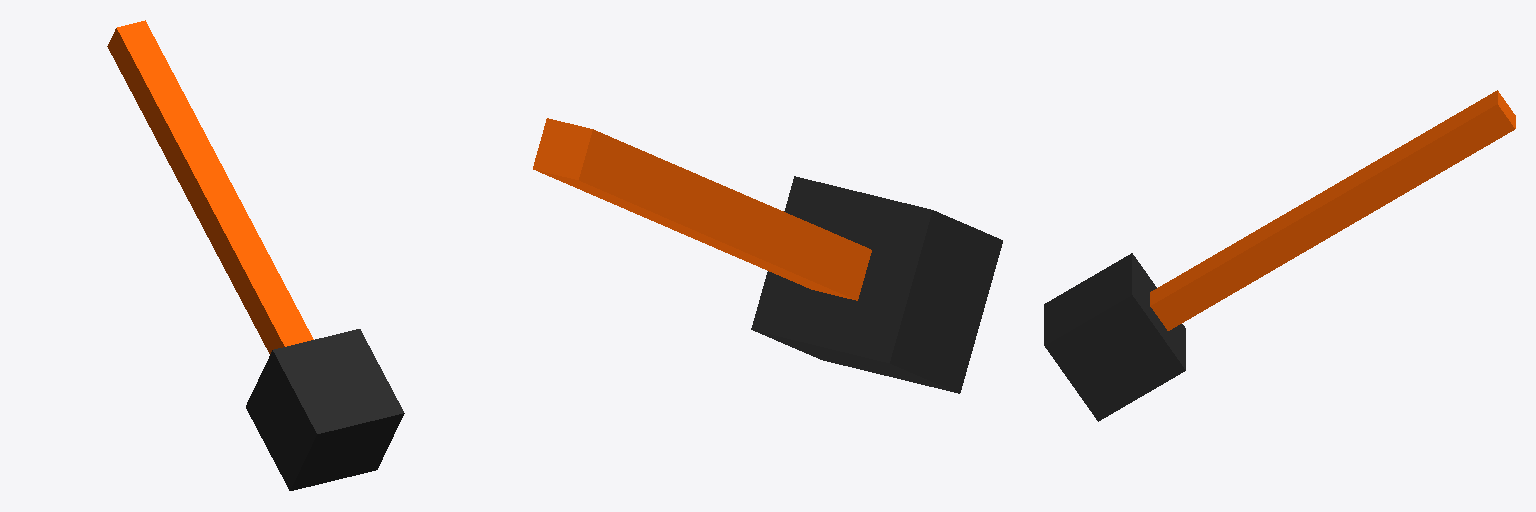
The robot description file, URDF, robot "lbr_iiwa":
<?xml version="1.0" ?>
<!-- =================================================================================== -->
<!-- |    This document was autogenerated by xacro from lbr_iiwa_meshfree.urdf.xacro   | -->
<!-- |    EDITING THIS FILE BY HAND IS NOT RECOMMENDED                                 | -->
<!-- =================================================================================== -->
<robot name="lbr_iiwa" xmlns:xacro="http://www.ros.org/wiki/xacro">
  <!-- Import Rviz colors -->
  <material name="Black">
    <color rgba="0.0 0.0 0.0 1.0"/>
  </material>
  <material name="Blue">
    <color rgba="0.0 0.0 0.8 1.0"/>
  </material>
  <material name="Green">
    <color rgba="0.0 0.8 0.0 1.0"/>
  </material>
  <material name="Grey">
    <color rgba="0.2 0.2 0.2 1.0"/>
  </material>
  <material name="Orange">
    <color rgba="1.0 0.423529411765 0.0392156862745 1.0"/>
  </material>
  <material name="Brown">
    <color rgba="0.870588235294 0.811764705882 0.764705882353 1.0"/>
  </material>
  <material name="Red">
    <color rgba="0.8 0.0 0.0 1.0"/>
  </material>
  <material name="White">
    <color rgba="1.0 1.0 1.0 1.0"/>
  </material>
  <!--Import the lbr iiwa macro -->
  <!-- Import all Gazebo-customization elements, including Gazebo colors -->
  <!-- Import Transmissions -->
  <!-- Include Utilities -->
  <!-- The following macros are adapted from the LWR 4 definitions of the RCPRG - https://github.com/RCPRG-ros-pkg/lwr_robot -->
  <!--Little helper macros to define the inertia matrix needed for links.-->
  <!--Cuboid-->
  <!--Cylinder: length is along the y-axis! -->
  <!-- some constants -->
  <!-- <xacro:property name="safety_controller_k_pos" value="100" />
  <xacro:property name="safety_controller_k_vel" value="2" /> -->
  <!-- Import Gazebo plugins -->
  <gazebo>
    <plugin filename="libgazebo_ros_control.so" name="gazebo_ros_controller">
      <robotNamespace>/lbr_iiwa</robotNamespace>
    </plugin>
  </gazebo>
  <!-- Fix to world just for testing -->
  <link name="world"/>
  <!--lbr-->
  <!--joint between {parent} and link_0-->
  <joint name="world_joint" type="fixed">
    <origin rpy="-1 0 0" xyz="0 0 0.0"/>
    <parent link="world"/>
    <child link="lbr_iiwa_link_0"/>
  </joint>
  <link name="lbr_iiwa_link_0">
    <inertial>
      <origin rpy="0 0 0" xyz="-0.1 0 0.07"/>
      <mass value="5"/>
      <inertia ixx="0.05" ixy="0" ixz="0" iyy="0.06" iyz="0" izz="0.03"/>
    </inertial>
    <visual>
      <origin rpy="0 0 0" xyz="0 0 0.07875"/>
      <geometry>
        <box size="0.15 0.15 0.1575"/>
      </geometry>
      <material name="Grey"/>
    </visual>
    <collision>
      <origin rpy="0 0 0" xyz="0 0 0.07875"/>
      <geometry>
        <box size="0.15 0.15 0.1575"/>
      </geometry>
      <material name="Grey"/>
    </collision>
    <!--self_collision_checking>
        <origin xyz="0 0 0" rpy="0 0 0"/>
        <geometry>
          <capsule radius="0.15" length="0.25"/>
        </geometry>
      </self_collision_checking-->
  </link>
  <!-- joint between link_0 and link_1 -->
  <joint name="lbr_iiwa_joint_1" type="revolute">
    <parent link="lbr_iiwa_link_0"/>
    <child link="lbr_iiwa_link_1"/>
    <origin rpy="0 0 0" xyz="0 0 0.1575"/>
    <axis xyz="0 0 1"/>
    <limit effort="300" lower="-3.14159265359" upper="3.14159265359" velocity="10"/>
    <!--   <safety_controller soft_lower_limit="${-168 * M_PI / 180}"
           soft_upper_limit="${168 * M_PI / 180}"
           k_position="${safety_controller_k_pos}"
           k_velocity="${safety_controller_k_vel}"/> -->
    <dynamics damping="0.5"/>
  </joint>
  <link name="lbr_iiwa_link_1">
    <inertial>
      <origin rpy="0 0 0" xyz="0 -0.03 0.12"/>
      <mass value="4"/>
      <inertia ixx="0.1" ixy="0" ixz="0" iyy="0.09" iyz="0" izz="0.02"/>
    </inertial>
    <visual>
      <origin rpy="0 0 0" xyz="0 0 0.10125"/>
      <geometry>
        <box size="0.05 0.05 0.2025"/>
      </geometry>
      <material name="Orange"/>
    </visual>
    <collision>
      <origin rpy="0 0 0" xyz="0 0 0.10125"/>
      <geometry>
        <box size="0.05 0.05 0.2025"/>
      </geometry>
      <material name="Orange"/>
    </collision>
  </link>
  <!-- joint between link_1 and link_2 -->
  <joint name="lbr_iiwa_joint_2" type="revolute">
    <parent link="lbr_iiwa_link_1"/>
    <child link="lbr_iiwa_link_2"/>
    <origin rpy="1.57079632679   0 3.14159265359" xyz="0 0 0.2025"/>
    <axis xyz="0 0 1"/>
    <limit effort="300" lower="-2.09439510239" upper="2.09439510239" velocity="10"/>
    <!-- <safety_controller soft_lower_limit="${-118 * PI / 180}"
           soft_upper_limit="${118 * PI / 180}"
           k_position="${safety_controller_k_pos}"
           k_velocity="${safety_controller_k_vel}"/> -->
    <dynamics damping="0.5"/>
  </joint>
  <link name="lbr_iiwa_link_2">
    <inertial>
      <origin rpy="0 0 0" xyz="0.0003 0.059 0.042"/>
      <mass value="4"/>
      <inertia ixx="0.05" ixy="0" ixz="0" iyy="0.018" iyz="0" izz="0.044"/>
    </inertial>
    <visual>
      <origin rpy="0 0 0" xyz="0 0.10225 0"/>
      <geometry>
        <box size="0.05 0.2045 0.05"/>
      </geometry>
      <material name="Orange"/>
    </visual>
    <collision>
      <origin rpy="0 0 0" xyz="0 0.10225 0"/>
      <geometry>
        <box size="0.05 0.2045 0.05"/>
      </geometry>
      <material name="Orange"/>
    </collision>
  </link>
  <!-- joint between link_2 and link_3 -->
  <joint name="lbr_iiwa_joint_3" type="revolute">
    <parent link="lbr_iiwa_link_2"/>
    <child link="lbr_iiwa_link_3"/>
    <origin rpy="1.57079632679 0 3.14159265359" xyz="0 0.2045 0"/>
    <axis xyz="0 1 0"/>
    <limit effort="300" lower="-2.96705972839" upper="2.96705972839" velocity="10"/>
    <!-- <safety_controller soft_lower_limit="${-118 * PI / 180}"
           soft_upper_limit="${118 * PI / 180}"
           k_position="${safety_controller_k_pos}"
           k_velocity="${safety_controller_k_vel}"/> -->
    <dynamics damping="0.5"/>
  </joint>
  <link name="lbr_iiwa_link_3">
    <inertial>
      <origin rpy="0 0 0" xyz="0 0.03 0.13"/>
      <mass value="3"/>
      <inertia ixx="0.08" ixy="0" ixz="0" iyy="0.075" iyz="0" izz="0.01"/>
    </inertial>
    <visual>
      <origin rpy="0 0 0" xyz="0 0 0.10775"/>
      <geometry>
        <box size="0.05 0.05 0.2155"/>
      </geometry>
      <material name="Orange"/>
    </visual>
    <collision>
      <origin rpy="0 0 0" xyz="0 0 0.10775"/>
      <geometry>
        <box size="0.05 0.05 0.2155"/>
      </geometry>
      <material name="Orange"/>
    </collision>
  </link>
  <!--Extensions -->
  <!-- Link0 -->
  <gazebo reference="lbr_iiwa_link_0">
    <material>Gazebo/Grey</material>
    <mu1>0.2</mu1>
    <mu2>0.2</mu2>
  </gazebo>
  <!-- Link1 -->
  <gazebo reference="lbr_iiwa_link_1">
    <material>Gazebo/Orange</material>
    <mu1>0.2</mu1>
    <mu2>0.2</mu2>
  </gazebo>
  <!-- Link2 -->
  <gazebo reference="lbr_iiwa_link_2">
    <material>Gazebo/Orange</material>
    <mu1>0.2</mu1>
    <mu2>0.2</mu2>
  </gazebo>
  <!-- Link3 -->
  <gazebo reference="lbr_iiwa_link_3">
    <material>Gazebo/Orange</material>
    <mu1>0.2</mu1>
    <mu2>0.2</mu2>
  </gazebo>
  <!-- Link4 -->
  <gazebo reference="lbr_iiwa_link_4">
    <material>Gazebo/Orange</material>
    <mu1>0.2</mu1>
    <mu2>0.2</mu2>
  </gazebo>
  <!-- Link5 -->
  <gazebo reference="lbr_iiwa_link_5">
    <material>Gazebo/Orange</material>
    <mu1>0.2</mu1>
    <mu2>0.2</mu2>
  </gazebo>
  <!-- Link6 -->
  <gazebo reference="lbr_iiwa_link_6">
    <material>Gazebo/Orange</material>
    <mu1>0.2</mu1>
    <mu2>0.2</mu2>
  </gazebo>
  <!-- Link7 -->
  <gazebo reference="lbr_iiwa_link_7">
    <material>Gazebo/Grey</material>
    <mu1>0.2</mu1>
    <mu2>0.2</mu2>
  </gazebo>
  <transmission name="lbr_iiwa_tran_1">
    <type>transmission_interface/SimpleTransmission</type>
    <joint name="lbr_iiwa_joint_1">
      <hardwareInterface>EffortJointInterface</hardwareInterface>
    </joint>
    <actuator name="lbr_iiwa_motor_1">
      <hardwareInterface>EffortJointInterface</hardwareInterface>
      <mechanicalReduction>1</mechanicalReduction>
    </actuator>
  </transmission>
  <transmission name="lbr_iiwa_tran_2">
    <type>transmission_interface/SimpleTransmission</type>
    <joint name="lbr_iiwa_joint_2">
      <hardwareInterface>EffortJointInterface</hardwareInterface>
    </joint>
    <actuator name="lbr_iiwa_motor_2">
      <hardwareInterface>EffortJointInterface</hardwareInterface>
      <mechanicalReduction>1</mechanicalReduction>
    </actuator>
  </transmission>
  <transmission name="lbr_iiwa_tran_3">
    <type>transmission_interface/SimpleTransmission</type>
    <joint name="lbr_iiwa_joint_3">
      <hardwareInterface>EffortJointInterface</hardwareInterface>
    </joint>
    <actuator name="lbr_iiwa_motor_3">
      <hardwareInterface>EffortJointInterface</hardwareInterface>
      <mechanicalReduction>1</mechanicalReduction>
    </actuator>
  </transmission>
  <transmission name="lbr_iiwa_tran_4">
    <type>transmission_interface/SimpleTransmission</type>
    <joint name="lbr_iiwa_joint_4">
      <hardwareInterface>EffortJointInterface</hardwareInterface>
    </joint>
    <actuator name="lbr_iiwa_motor_4">
      <hardwareInterface>EffortJointInterface</hardwareInterface>
      <mechanicalReduction>1</mechanicalReduction>
    </actuator>
  </transmission>
  <transmission name="lbr_iiwa_tran_5">
    <type>transmission_interface/SimpleTransmission</type>
    <joint name="lbr_iiwa_joint_5">
      <hardwareInterface>EffortJointInterface</hardwareInterface>
    </joint>
    <actuator name="lbr_iiwa_motor_5">
      <hardwareInterface>EffortJointInterface</hardwareInterface>
      <mechanicalReduction>1</mechanicalReduction>
    </actuator>
  </transmission>
  <transmission name="lbr_iiwa_tran_6">
    <type>transmission_interface/SimpleTransmission</type>
    <joint name="lbr_iiwa_joint_6">
      <hardwareInterface>EffortJointInterface</hardwareInterface>
    </joint>
    <actuator name="lbr_iiwa_motor_6">
      <hardwareInterface>EffortJointInterface</hardwareInterface>
      <mechanicalReduction>1</mechanicalReduction>
    </actuator>
  </transmission>
  <transmission name="lbr_iiwa_tran_7">
    <type>transmission_interface/SimpleTransmission</type>
    <joint name="lbr_iiwa_joint_7">
      <hardwareInterface>EffortJointInterface</hardwareInterface>
    </joint>
    <actuator name="lbr_iiwa_motor_7">
      <hardwareInterface>EffortJointInterface</hardwareInterface>
      <mechanicalReduction>1</mechanicalReduction>
    </actuator>
  </transmission>
</robot>

--- What the picture shows (computed from the rendered views, not written in the file) ---
3 views of the same robot in one strip: view 1: azimuth 30°, elevation 25°; view 2: azimuth 150°, elevation 25°; view 3: azimuth 270°, elevation 25° (orthographic).
Robot: lbr_iiwa — 5 links, 4 joints (3 revolute, 1 fixed); root link world; default pose: all joints at 0.
Links seen in each view (by area): view 1: lbr_iiwa_link_0, lbr_iiwa_link_3, lbr_iiwa_link_2, lbr_iiwa_link_1; view 2: lbr_iiwa_link_0, lbr_iiwa_link_3, lbr_iiwa_link_2, lbr_iiwa_link_1; view 3: lbr_iiwa_link_0, lbr_iiwa_link_3, lbr_iiwa_link_2, lbr_iiwa_link_1.
Link boxes in pixels (box(x1,y1,x2,y2)): lbr_iiwa_link_0: box(246, 329, 404, 490); lbr_iiwa_link_3: box(107, 20, 205, 161); lbr_iiwa_link_2: box(168, 136, 263, 271); lbr_iiwa_link_1: box(226, 246, 313, 353); lbr_iiwa_link_0: box(751, 176, 1002, 393); lbr_iiwa_link_3: box(533, 118, 689, 221); lbr_iiwa_link_2: box(630, 171, 780, 261); lbr_iiwa_link_1: box(723, 211, 871, 300); lbr_iiwa_link_0: box(1044, 253, 1185, 421); lbr_iiwa_link_3: box(1377, 90, 1515, 198); lbr_iiwa_link_2: box(1263, 161, 1394, 265); lbr_iiwa_link_1: box(1150, 227, 1280, 330).
Bounding box of the posed robot: 0.15 × 0.7104 × 0.5056 m (x, y, z).
Geometry: primitives only (box / cylinder / sphere), no mesh files.
